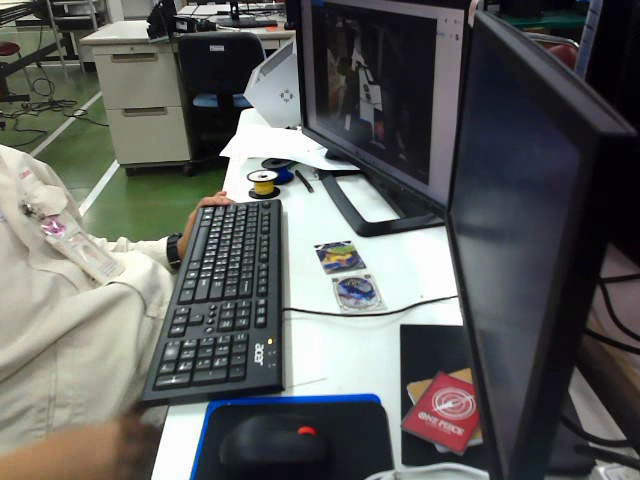can: (327, 274, 387, 310), (307, 235, 367, 270)
